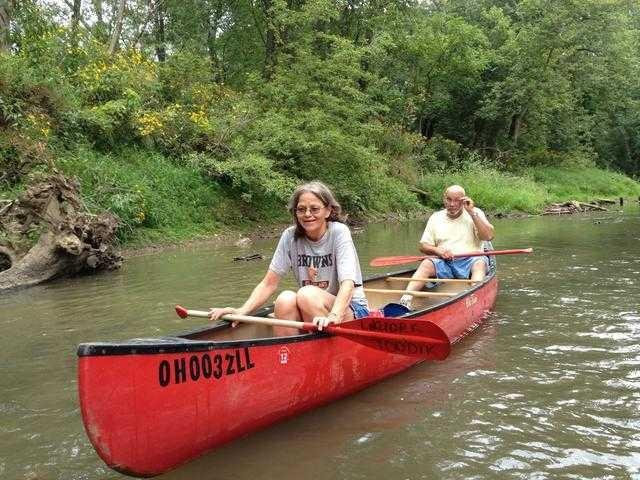kayak: (76, 255, 500, 478)
